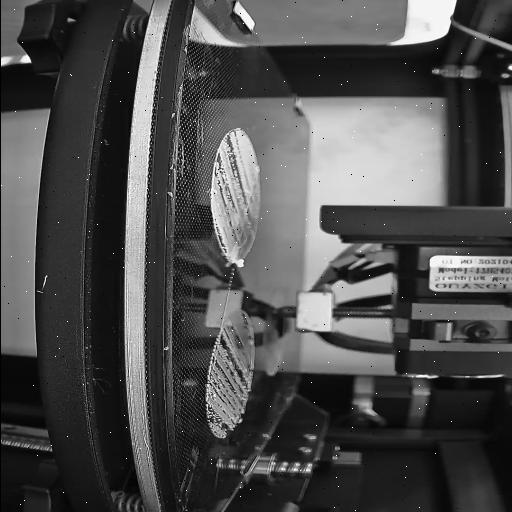under_extrusion: (206, 314, 254, 438), (213, 130, 251, 256)
